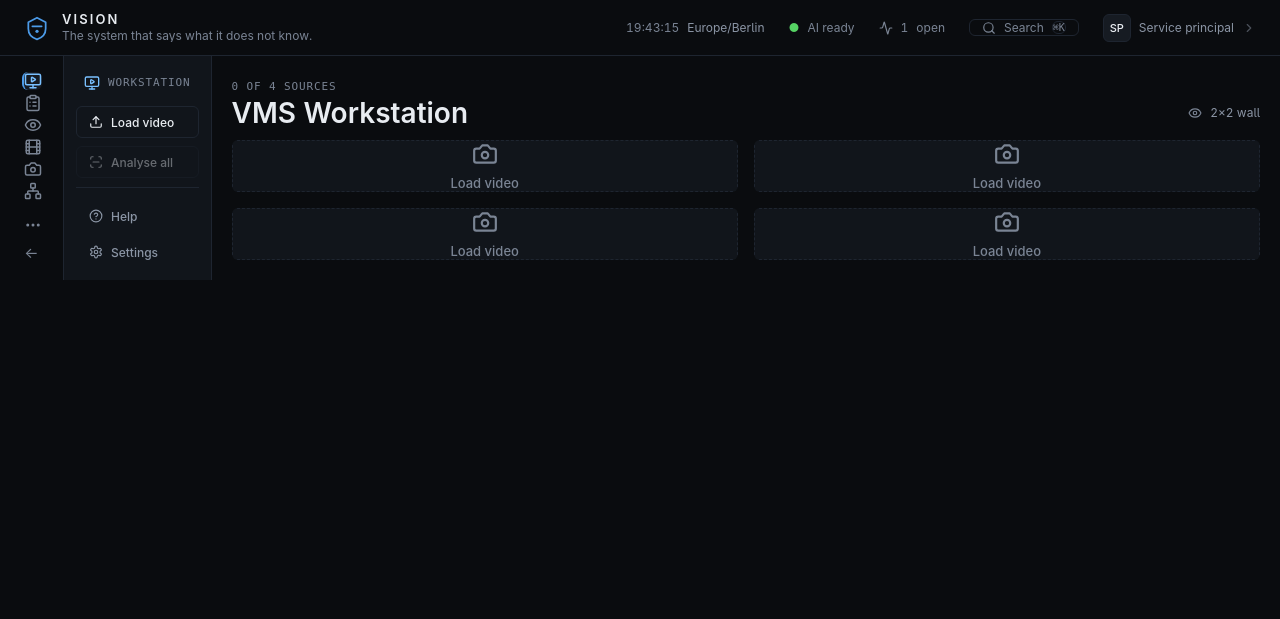
the shell › switches panels in place, without changing the URL
expect the heading "VMS Workstation" is shown: met, box [232, 102, 468, 124]
Click the button named "Incidents": (32,103) [22, 94, 42, 112]
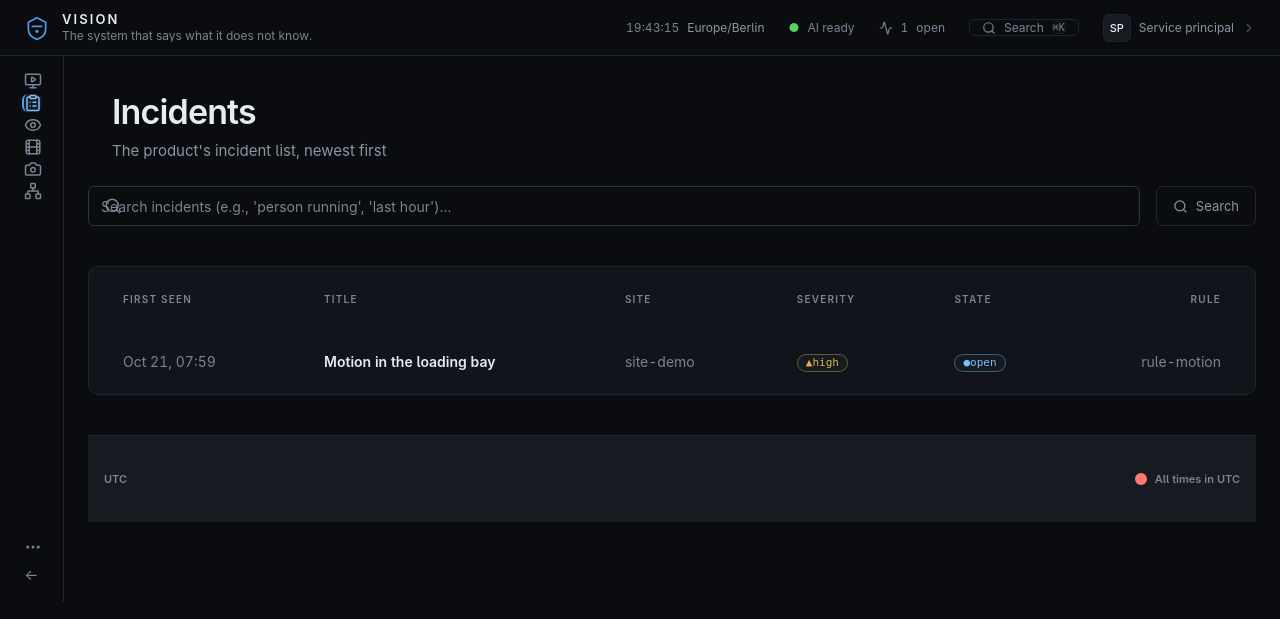
expect the heading "Incidents" is shown: met, box [112, 91, 256, 132]
